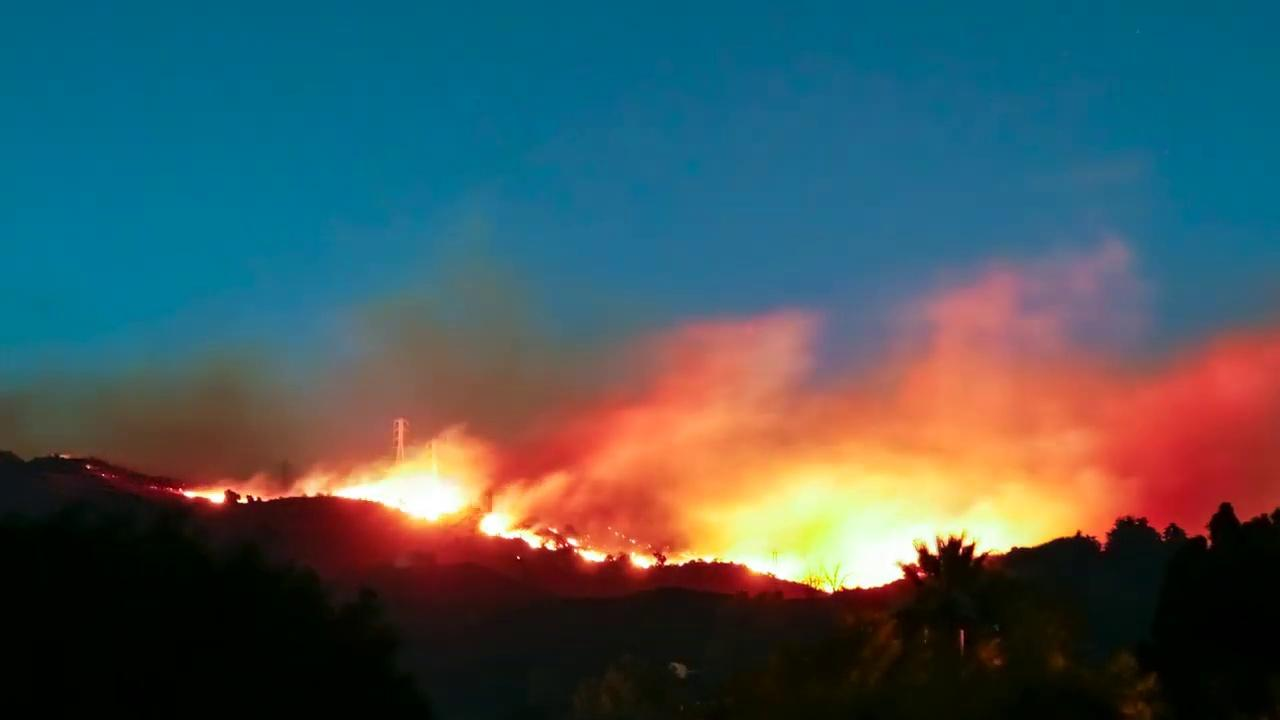fire: (623, 456, 1069, 594), (304, 432, 470, 531), (476, 495, 610, 567), (173, 481, 275, 506), (57, 447, 75, 461)
